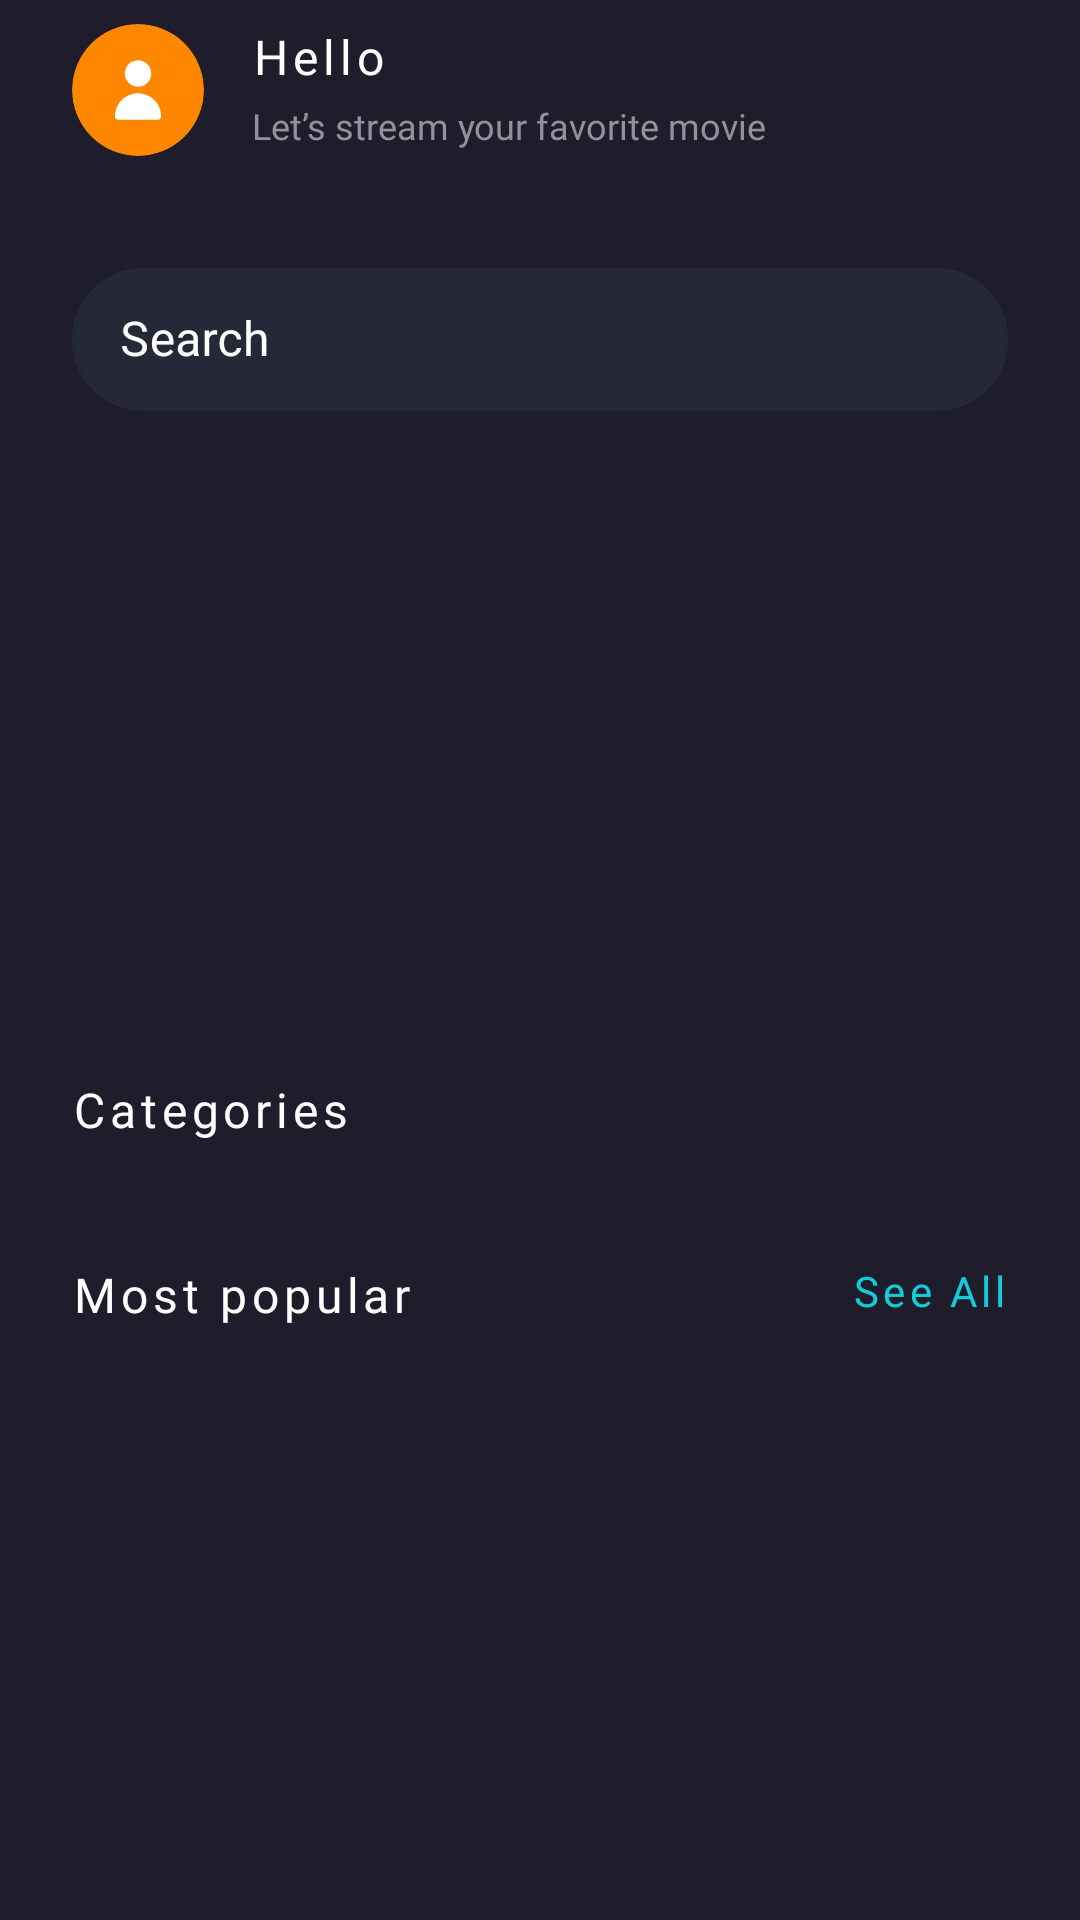

Icons on this 1080px×1920px Android screen, each with its box as (x1, y1, x2, y2):
home profile place holder: (72, 24, 204, 156)
